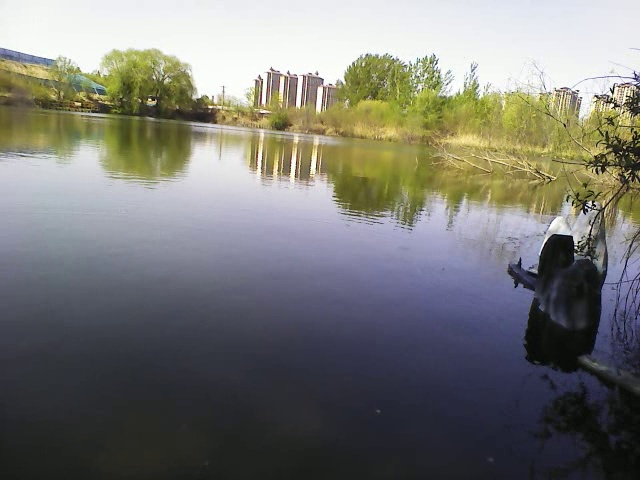iceberg: (538, 199, 610, 271)
rock: (532, 232, 605, 335)
submarine: (505, 254, 532, 287)
warship: (567, 345, 636, 393)
